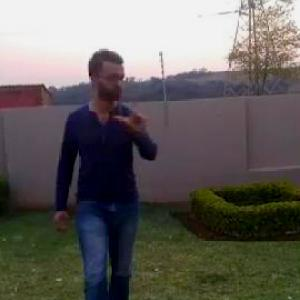land_hand: (113, 84, 151, 132)
